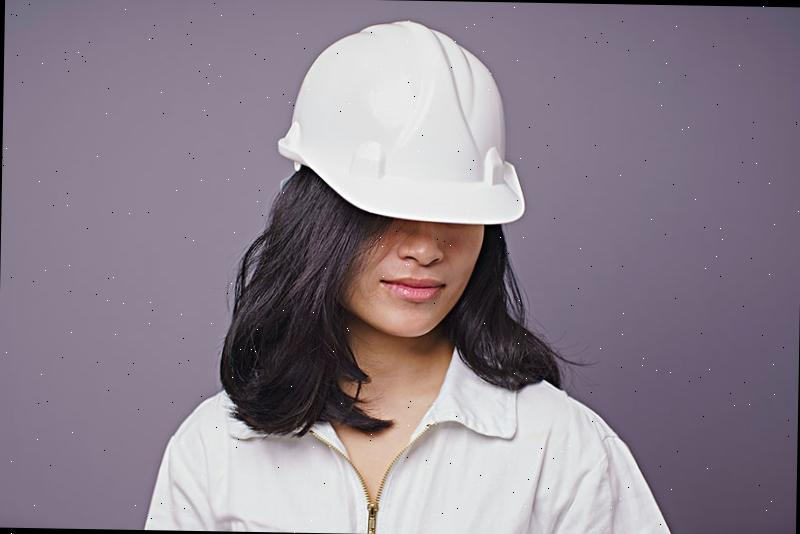helmet: (268, 18, 532, 230)
no_wear: (138, 342, 677, 534)
